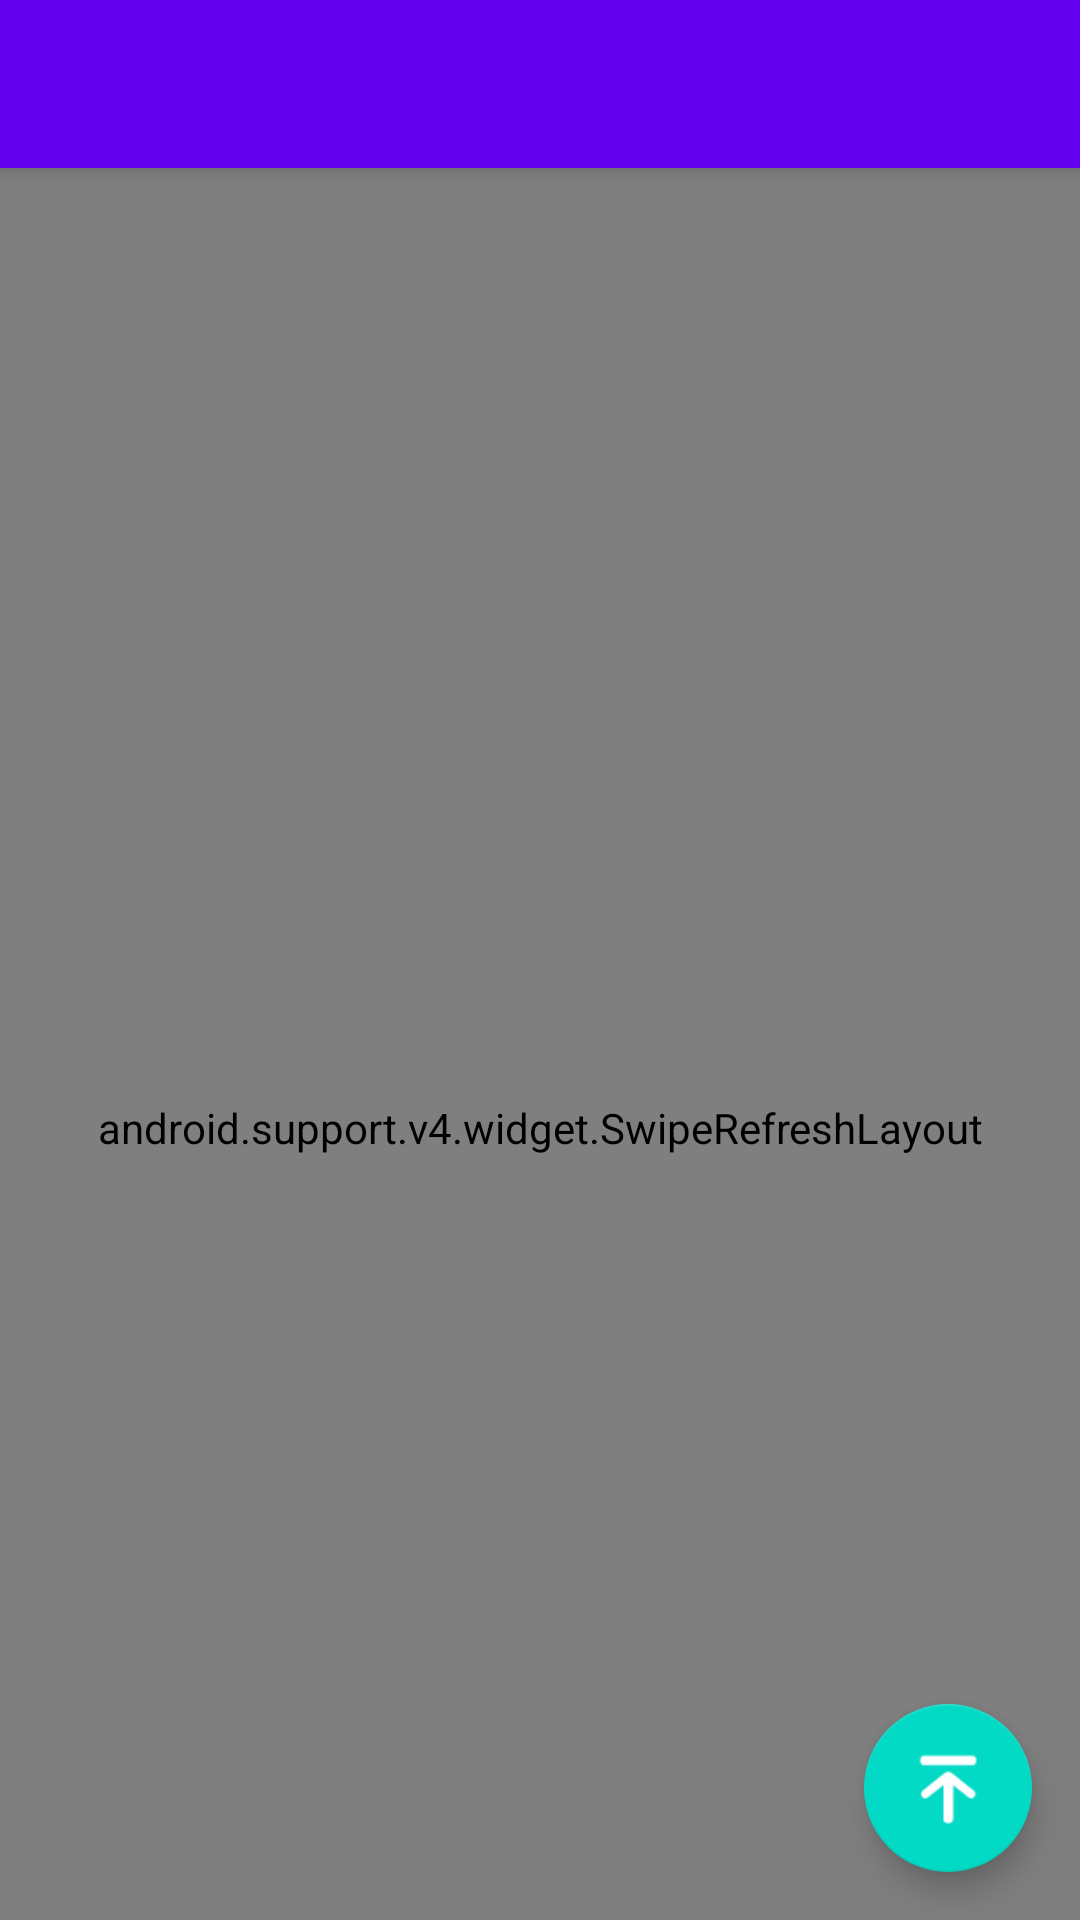

Named icons in this screenshot (1080px×1920px) and their bounding boxes, (x1, y1, x2, y2):
top: (864, 1704, 1032, 1872)
